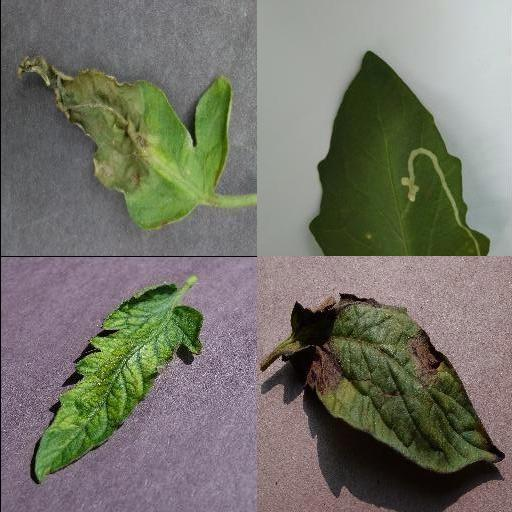Late Blight: (283, 295, 505, 473), (14, 55, 234, 231)
Leaf Miner: (304, 49, 492, 256)
Mosaic Virus: (33, 282, 203, 484)
